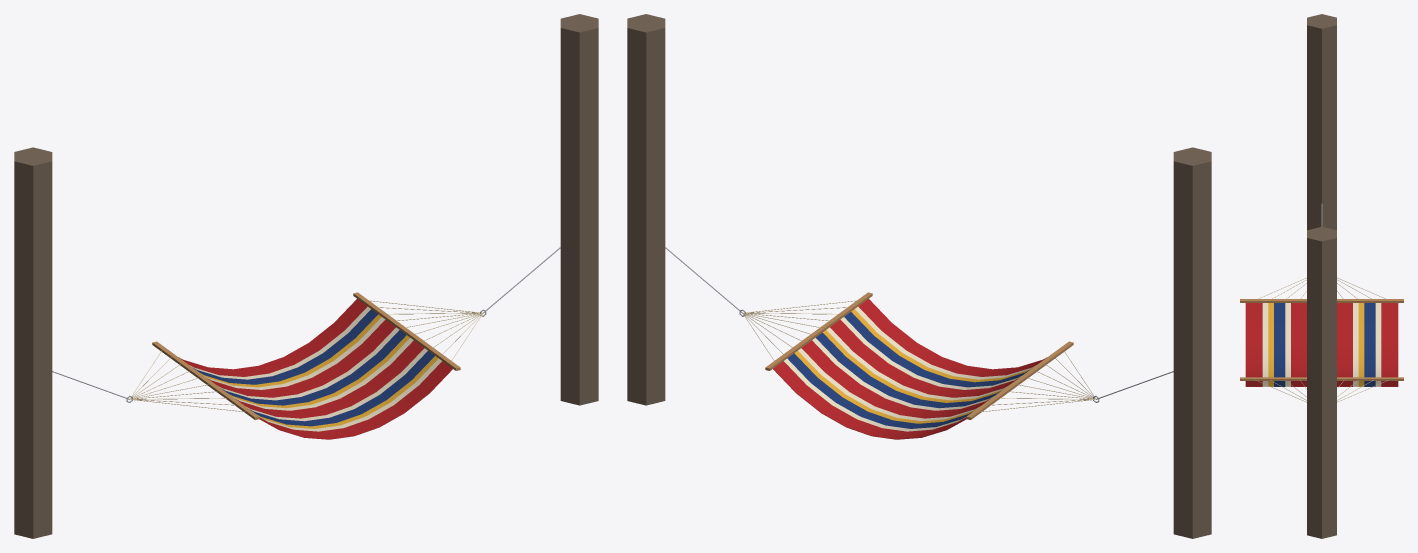
The model's file is hammock_spreader_canvas.far.glb.
3 renders of one model, left to right at view 1: azimuth 30°, elevation 25°; view 2: azimuth 150°, elevation 25°; view 3: azimuth 270°, elevation 25°, orthographic. The views are drawn at different scales.
Parts seen in each view (by area): view 1: hammock_spreader_canvas, bed_hammock_spreader_canvas; view 2: hammock_spreader_canvas, bed_hammock_spreader_canvas; view 3: hammock_spreader_canvas, bed_hammock_spreader_canvas.
Part boxes in pixels (x1,y1,x2,y2): hammock_spreader_canvas: (14,14,598,538); bed_hammock_spreader_canvas: (52,247,560,439); hammock_spreader_canvas: (627,14,1211,538); bed_hammock_spreader_canvas: (665,247,1173,439); hammock_spreader_canvas: (1307,14,1336,538); bed_hammock_spreader_canvas: (1240,204,1403,402).
Size of the model in its own units: 4.92 by 3 by 1.5.
